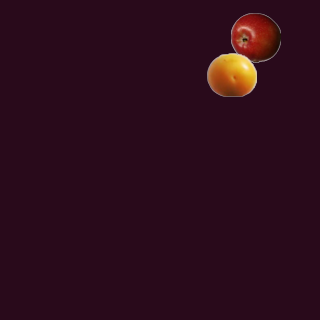Apple Braeburn: (230, 12, 280, 62)
Cherry Wax Yellow: (206, 49, 256, 99)
